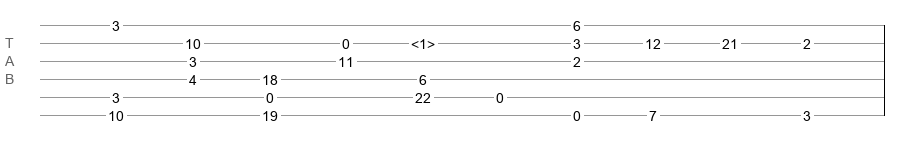0: (266, 90, 274, 100), (342, 36, 350, 46), (496, 90, 504, 100), (573, 108, 581, 118)
10: (108, 108, 124, 118), (185, 36, 201, 46)
11: (338, 54, 354, 64)
12: (645, 36, 661, 46)
18: (262, 72, 278, 82)
19: (262, 108, 278, 118)
2: (573, 54, 581, 64), (803, 36, 811, 46)
21: (722, 36, 738, 46)
22: (415, 90, 431, 100)
3: (112, 90, 120, 100), (112, 18, 120, 28), (189, 54, 197, 64), (573, 36, 581, 46), (803, 108, 811, 118)
4: (189, 72, 197, 82)
6: (419, 72, 427, 82), (573, 18, 581, 28)
7: (649, 108, 657, 118)
harmonic: (411, 36, 435, 46)
